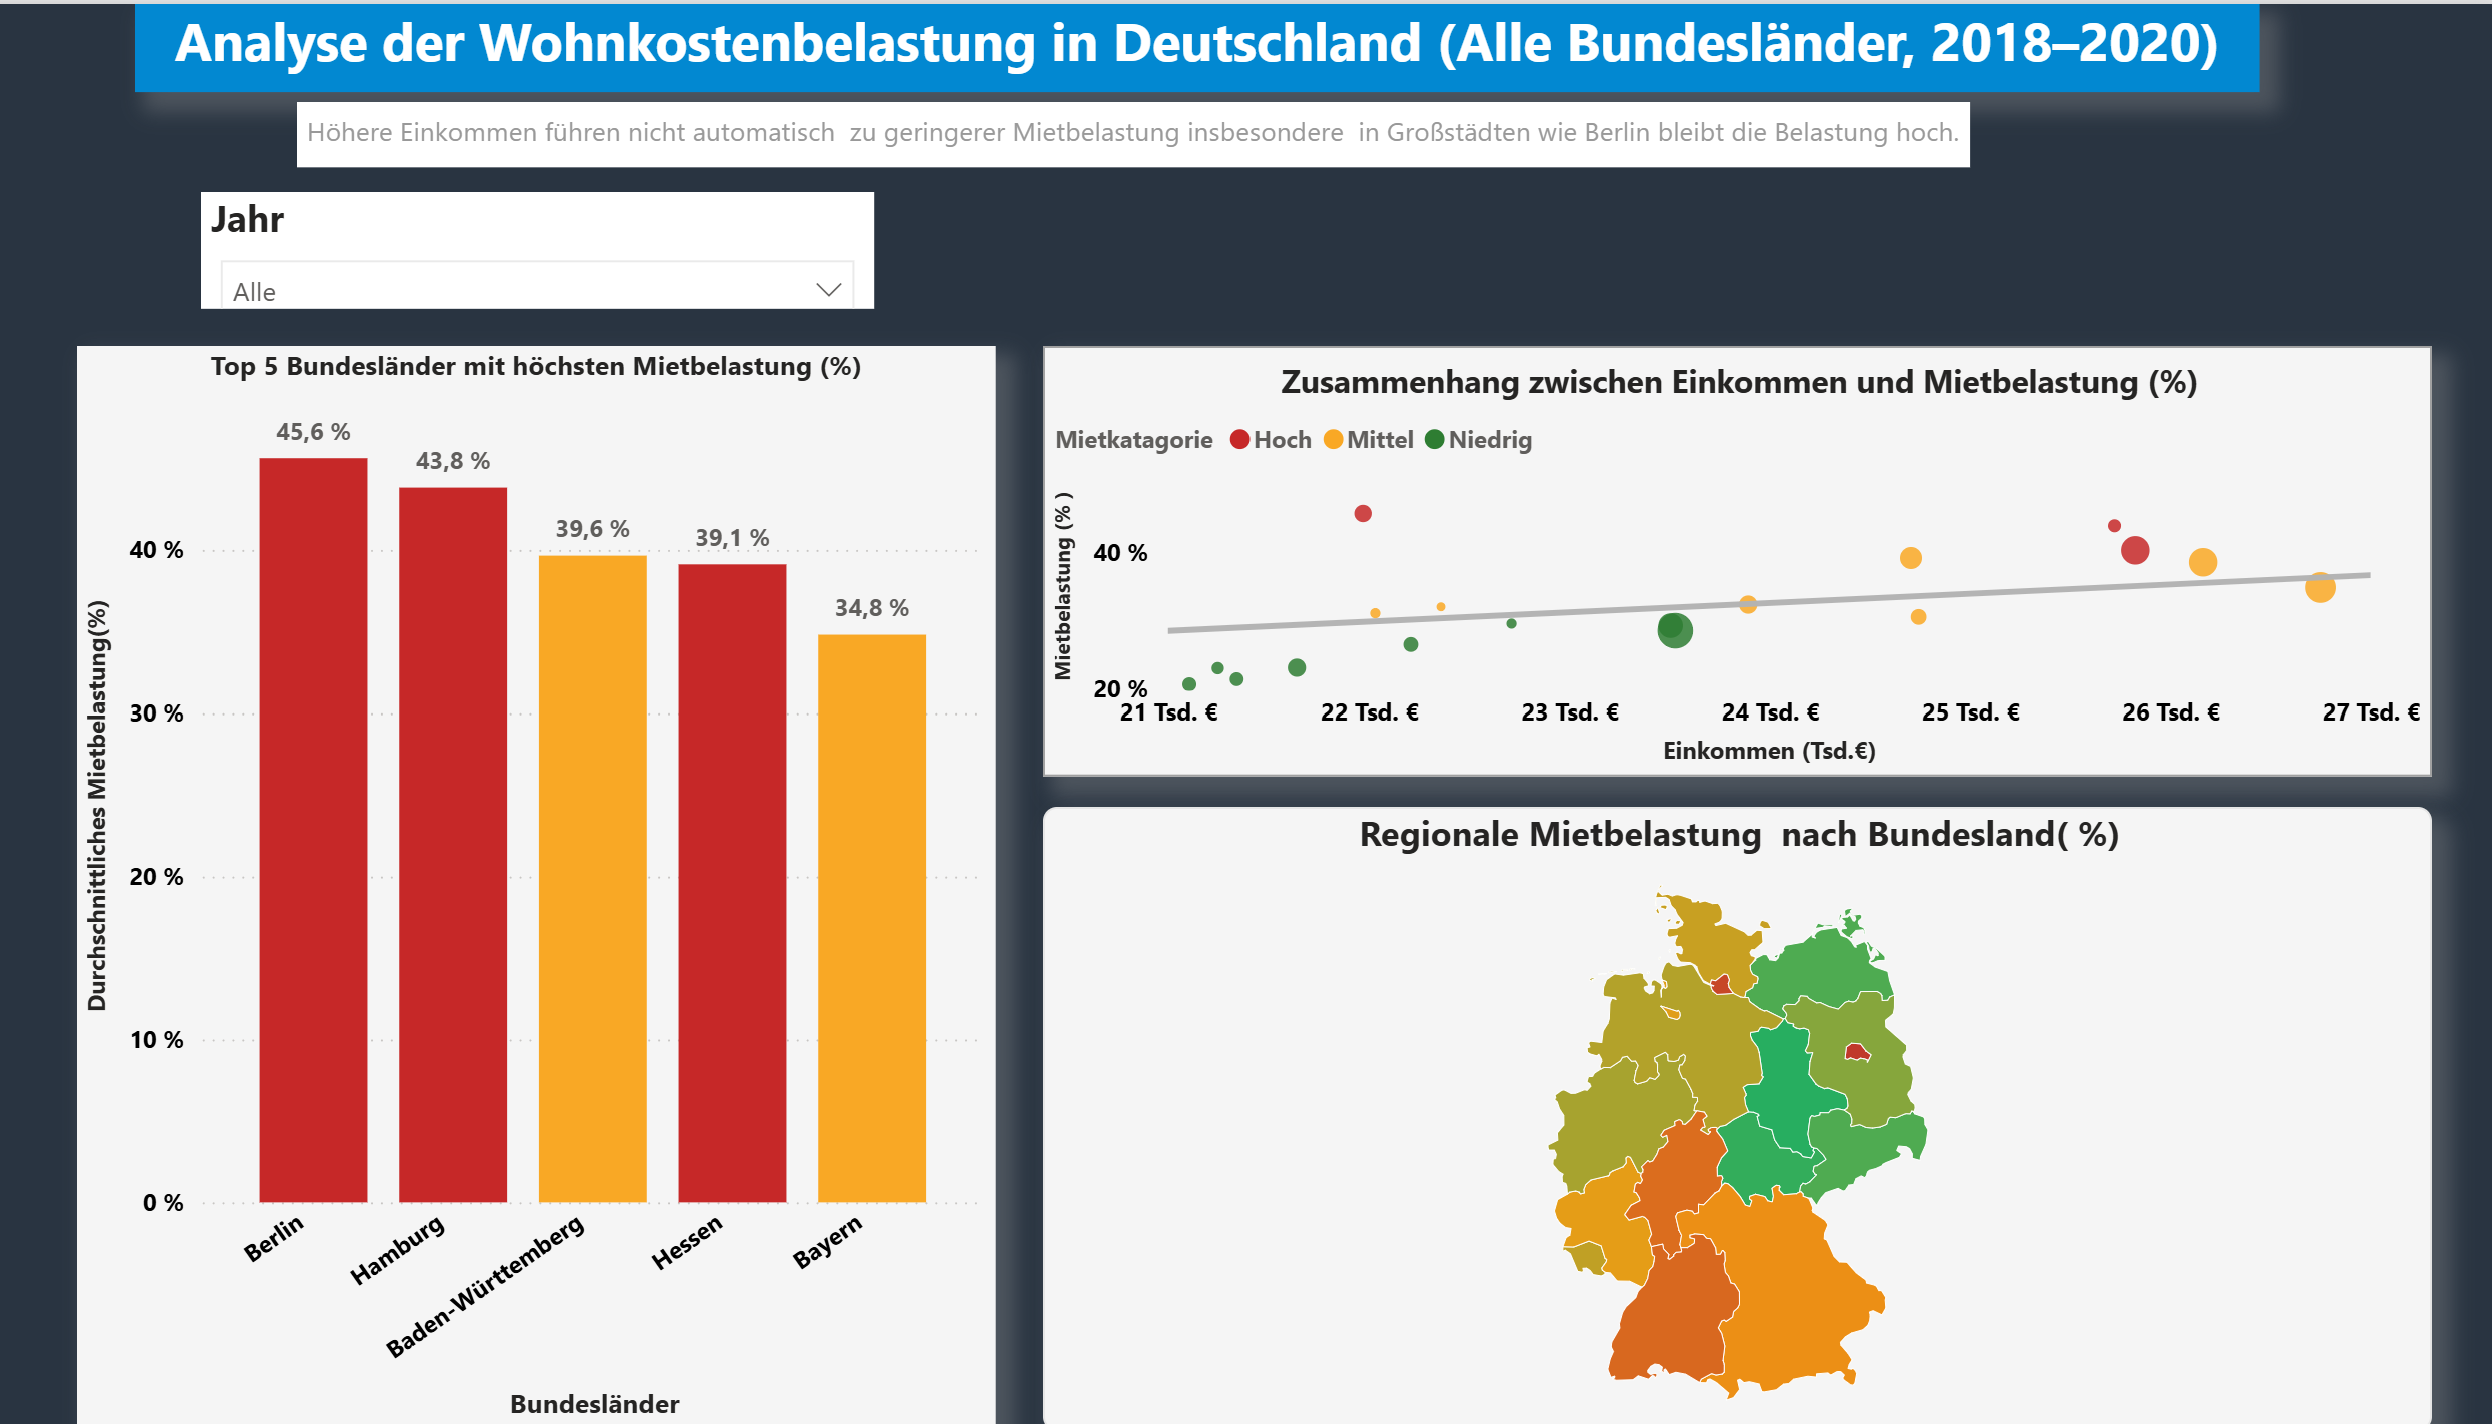

This screenshot's page, from the dashboard's own definition file:
{"tool":"powerbi","page":{"name":"Mietbelastung in Überblick","canvas":[1280,720],"ordinal":2},"visuals":[{"type":"scatterChart","title":"Zusammenhang zwischen Einkommen und  Mietbelastung (%)","fields":{"Category":["germany_housing_master_dataset.state"],"X":["Measure.Average Income(€)"],"Y":["Measure.Rent Burden %"],"Series":["germany_housing_master_dataset.Rent Category"],"Size":["Measure.Bevölkerung Mio"]},"box":[546,173,701,217],"z":0},{"type":"clusteredColumnChart","title":"Top 5 Bundesländer mit höchsten  Mietbelastung (%)","fields":{"Category":["germany_housing_master_dataset.state"],"Y":["Farbe_Mietbelastung.Mietbelastung (%)"]},"box":[59,173,464,547],"z":1000},{"type":"shapeMap","title":"Regionale Mietbelastung  nach Bundesland( %)","fields":{"Value":["Measure.Mietbelastung (%)"],"Category":["germany_housing_master_dataset.Bundesländer"]},"box":[546,405,701,315],"z":2000},{"type":"textbox","box":[87.6,0,1072.5,44.5],"z":4000},{"type":"slicer","title":"Jahr","fields":{"Values":["germany_housing_master_dataset.year"]},"box":[121,95,340,59],"z":5000},{"type":"textbox","box":[170.1,49.5,844.3,33],"z":7000}]}

Visuals, with their boxes in screenshot pixels (x1, y1, x2, y2), scaled from the page's 1280x720 canvas onto the 2492x1424 screenshot:
"Zusammenhang zwischen Einkommen und  Mietbelastung (%)" scatterChart: <bbox>1063, 342, 2428, 771</bbox>
"Top 5 Bundesländer mit höchsten  Mietbelastung (%)" clusteredColumnChart: <bbox>115, 342, 1018, 1423</bbox>
"Regionale Mietbelastung  nach Bundesland( %)" shapeMap: <bbox>1063, 801, 2428, 1423</bbox>
textbox: <bbox>171, 0, 2259, 88</bbox>
"Jahr" slicer: <bbox>236, 188, 898, 305</bbox>
textbox: <bbox>331, 98, 1975, 163</bbox>
